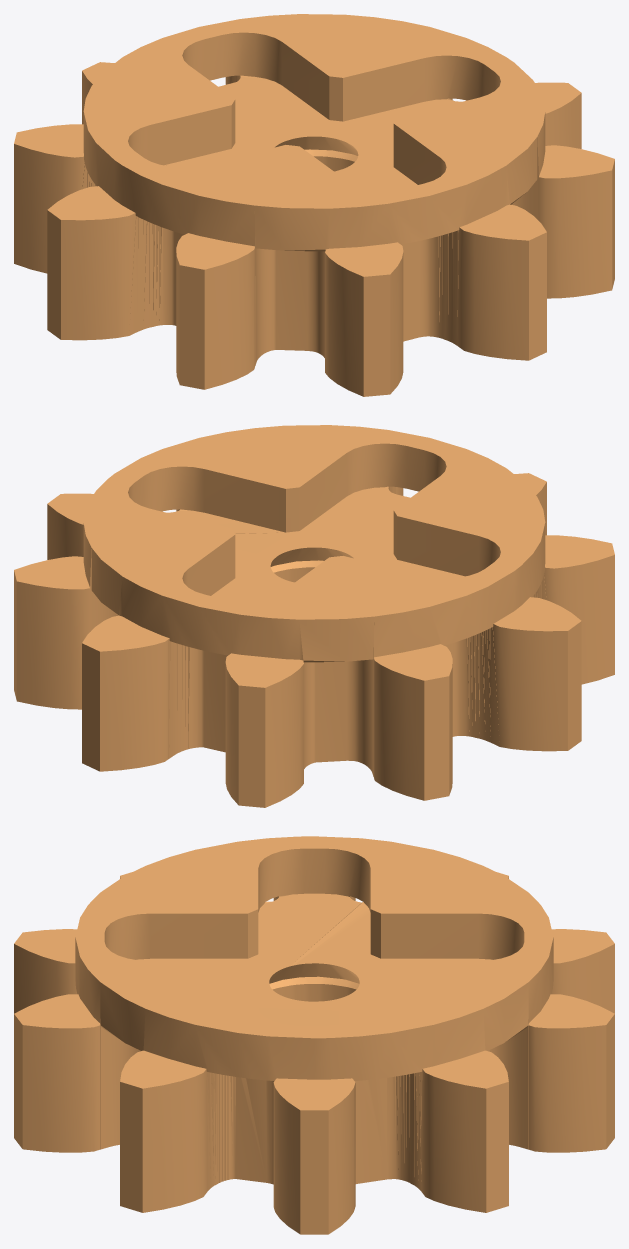
The model's file is mech-servo-pinion-z10.glb.
The picture shows the model from 3 angles, top to bottom: view 1: azimuth 30°, elevation 25°; view 2: azimuth 150°, elevation 25°; view 3: azimuth 270°, elevation 25°; orthographic projection. The views are drawn at different scales.
Parts seen in each view (by area): view 1: mech-servo-pinion-z10; view 2: mech-servo-pinion-z10; view 3: mech-servo-pinion-z10.
Part boxes in pixels (<box>): mech-servo-pinion-z10: <box>14,14,614,396</box>; mech-servo-pinion-z10: <box>14,425,614,807</box>; mech-servo-pinion-z10: <box>14,836,614,1234</box>.
Bounding box in the file's own units: 0.03 × 0.0088 × 0.0289.
